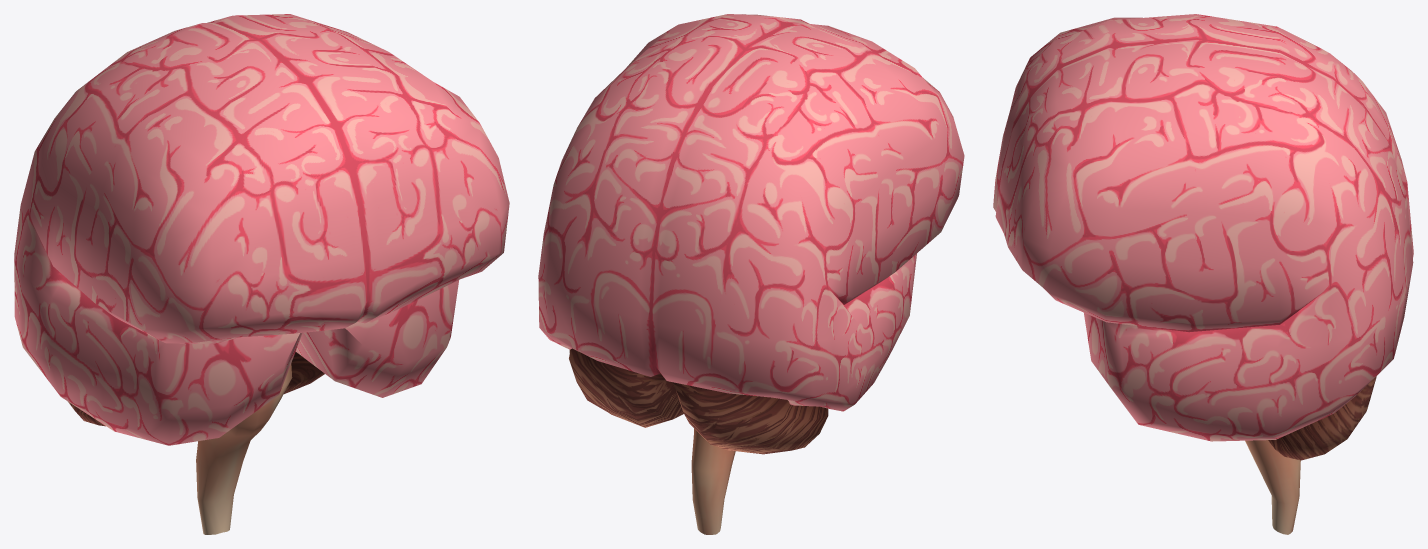
File: Brain02.fbx
3 views of the same model, side by side, from view 1: azimuth 30°, elevation 25°; view 2: azimuth 150°, elevation 25°; view 3: azimuth 270°, elevation 25° (orthographic). The views are drawn at different scales.
Visible parts, largest first — view 1: Brain02; view 2: Brain02; view 3: Brain02.
Boxes of the visible parts, x1,y1,x2,y2 form: Brain02: (14, 14, 509, 534); Brain02: (538, 14, 964, 534); Brain02: (993, 14, 1413, 534).
Size of the model in its own units: 136 by 195 by 150.
